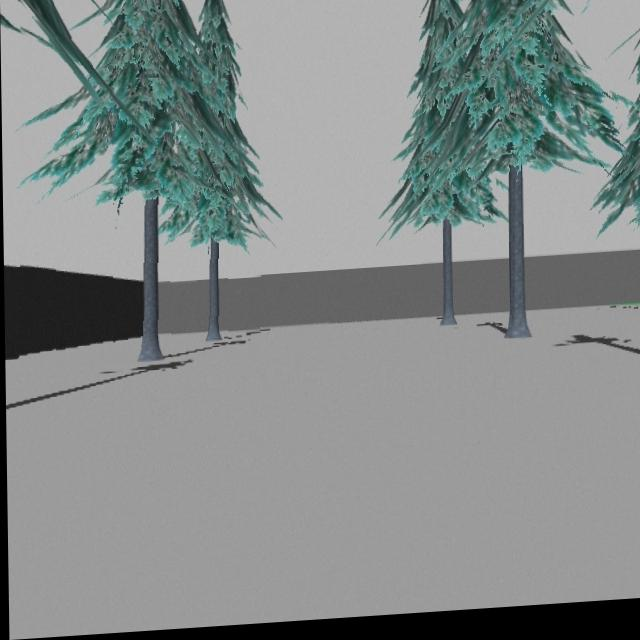tree: (19, 0, 261, 365), (431, 0, 616, 349)
